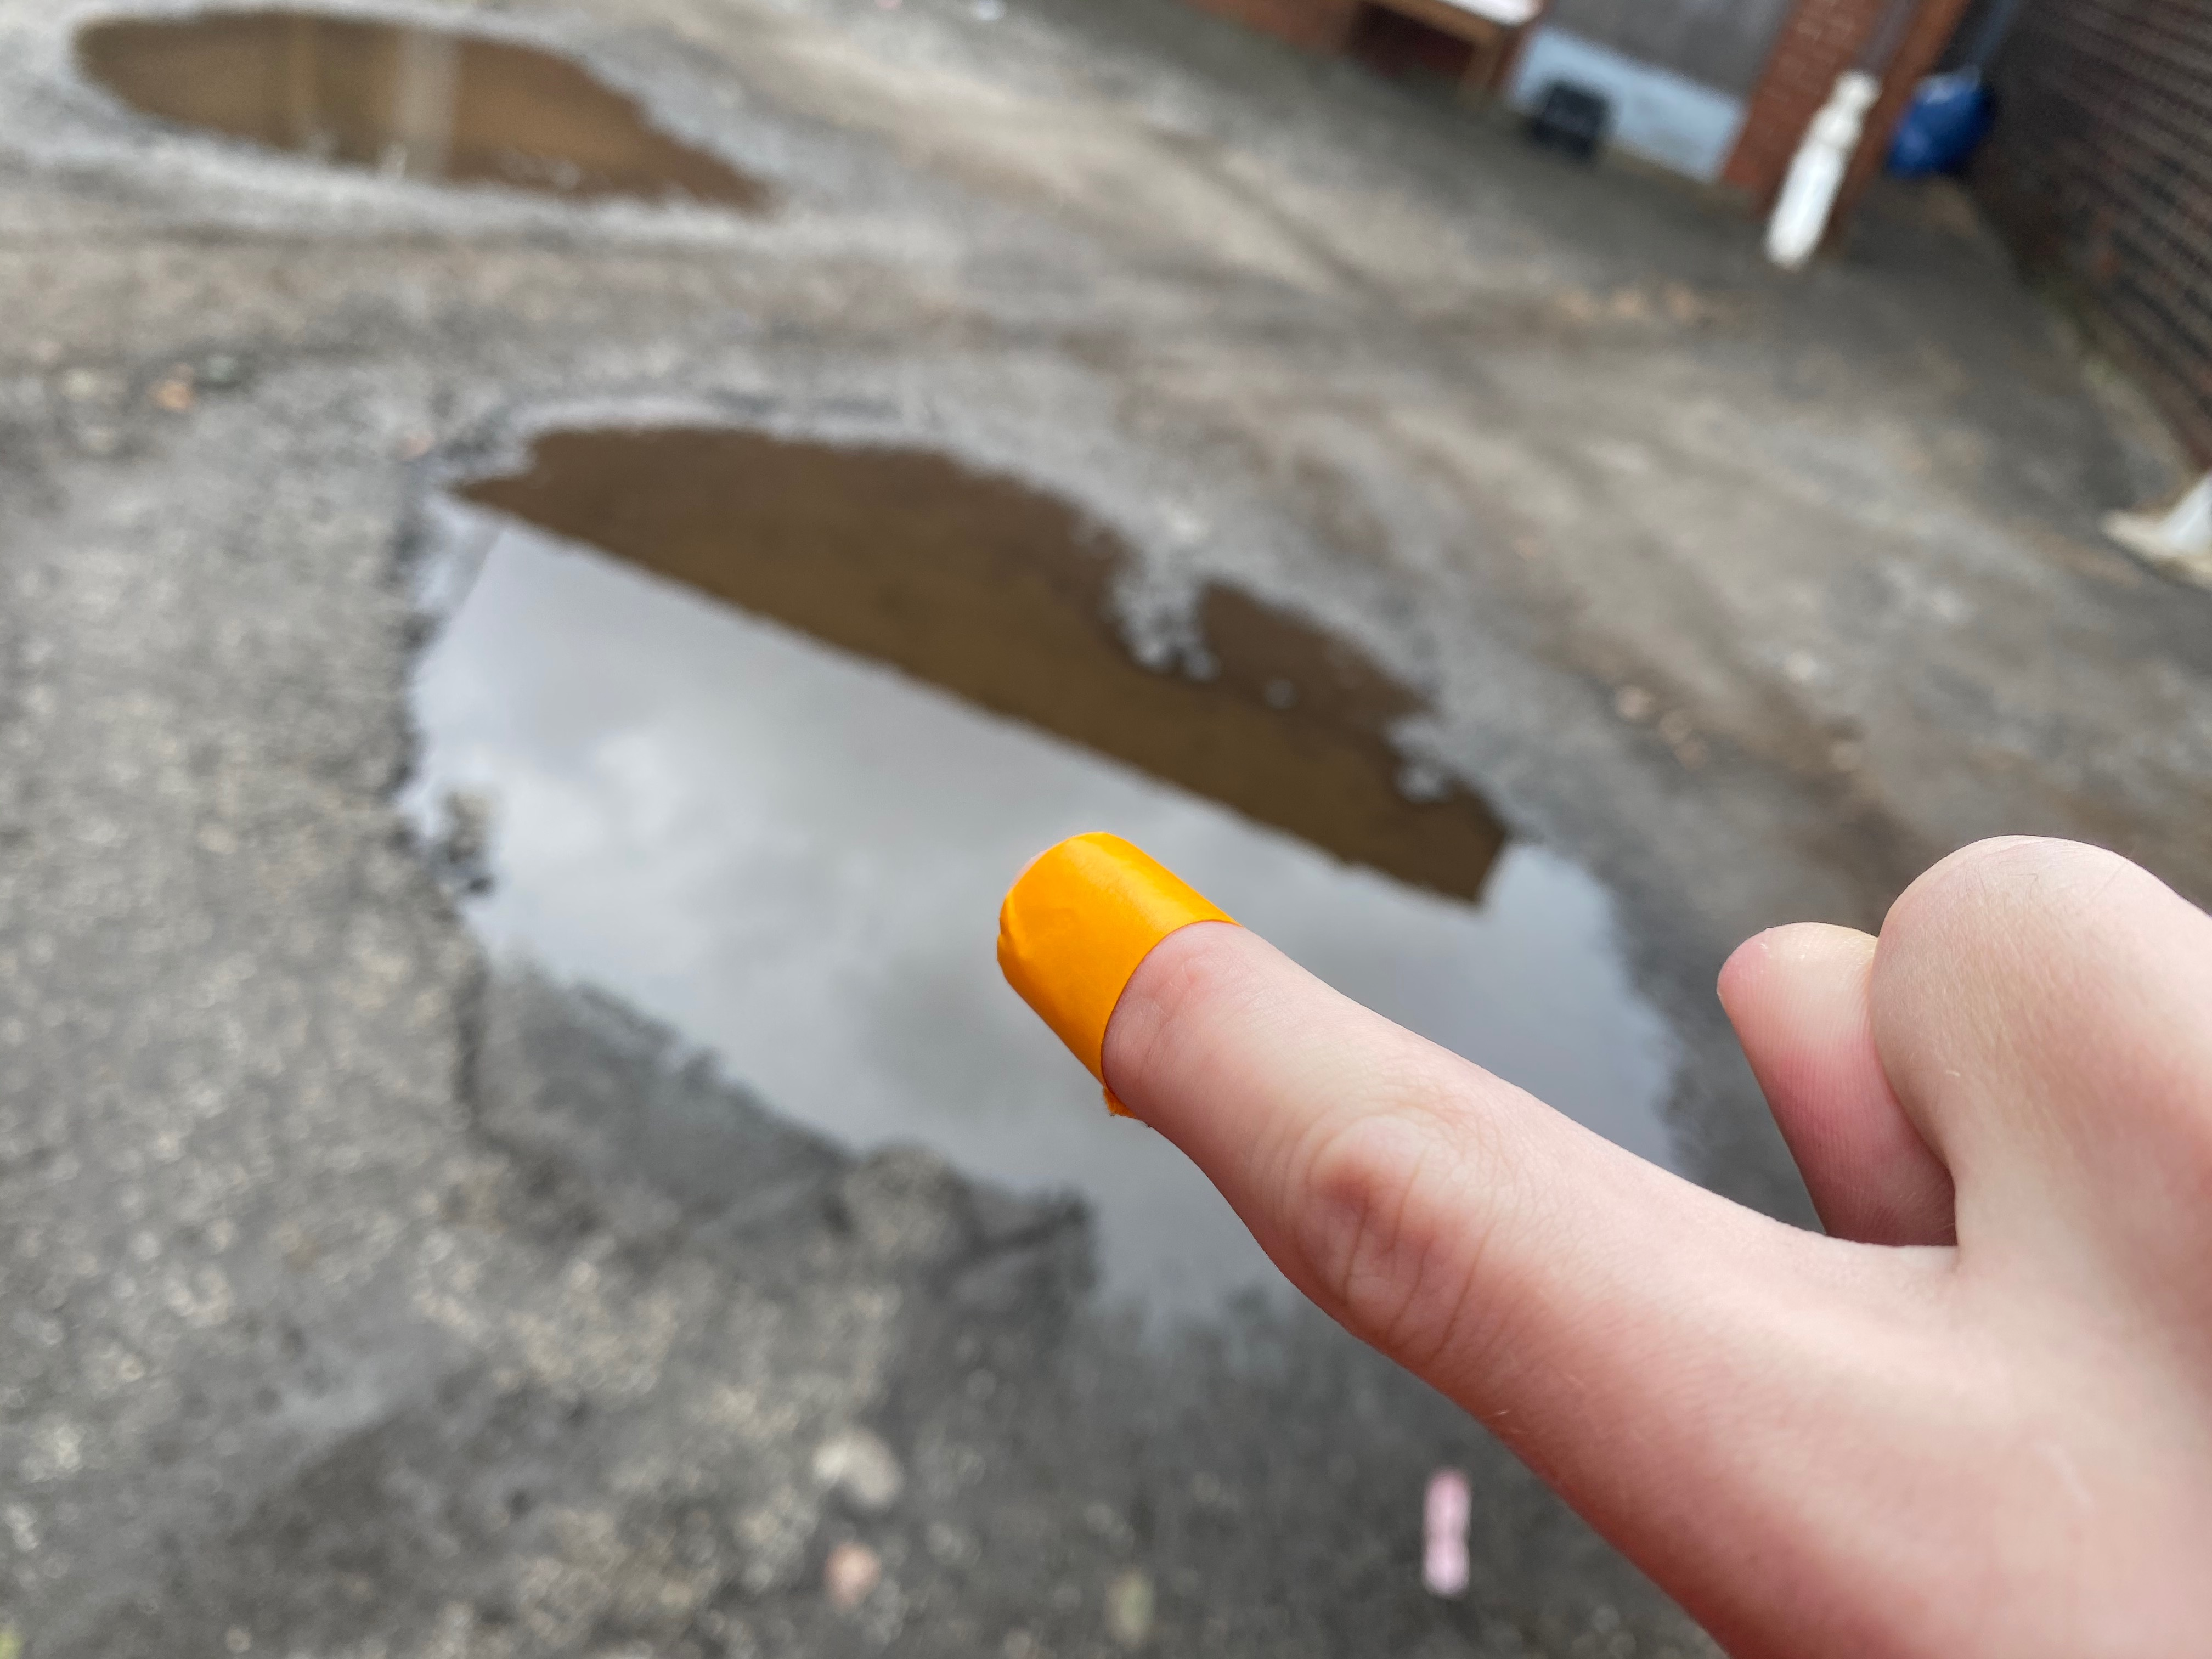fingertip: (968, 807, 1244, 1068)
